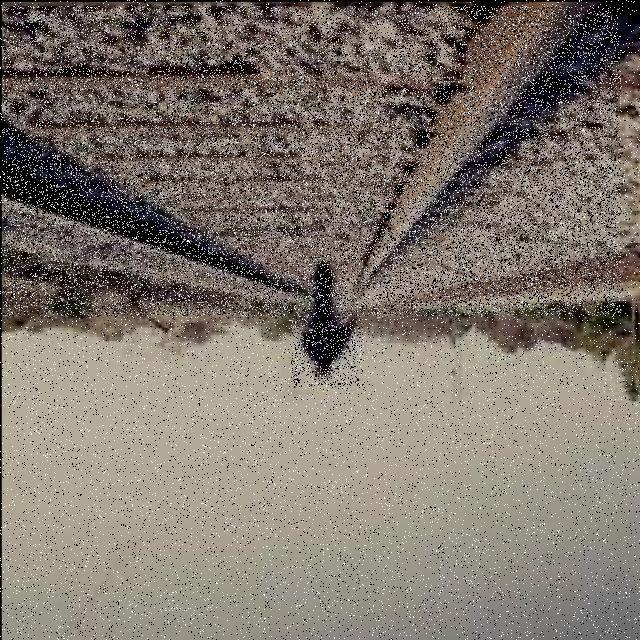danger: (291, 260, 363, 386)
rail: (3, 6, 621, 316)
